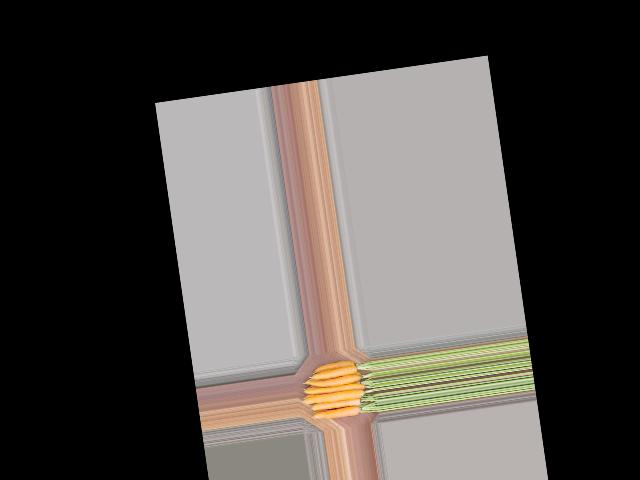carrot: (306, 356, 356, 375)
